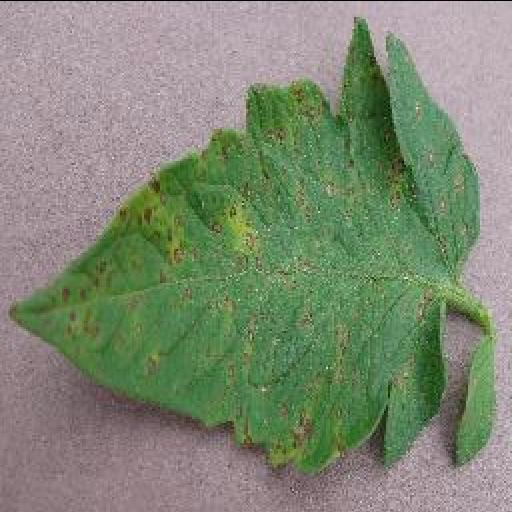disease_tomato: (7, 17, 477, 473)
